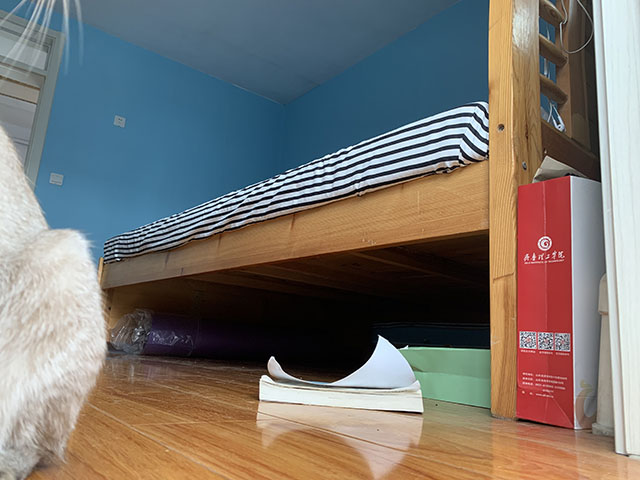bed: (93, 1, 603, 426)
book: (257, 333, 425, 415)
